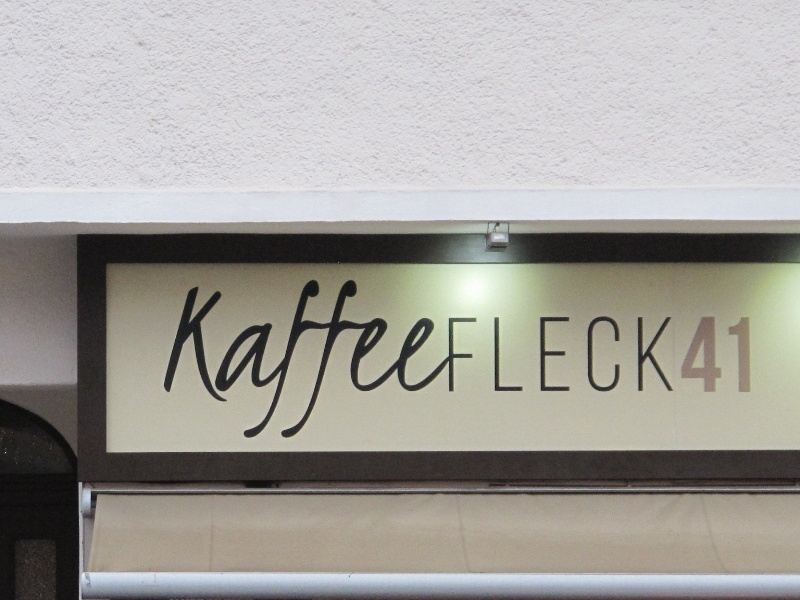text: (193, 273, 208, 442), (209, 273, 224, 442), (225, 273, 240, 442), (241, 273, 256, 442), (257, 273, 272, 442), (273, 273, 288, 442), (289, 273, 304, 442), (305, 273, 320, 442), (321, 273, 336, 442), (337, 273, 352, 442), (353, 273, 368, 442), (369, 273, 384, 442), (385, 273, 400, 442), (401, 273, 416, 442), (417, 273, 432, 442), (433, 273, 448, 442), (737, 317, 753, 396), (465, 317, 480, 396), (481, 317, 496, 396), (497, 317, 512, 396), (513, 317, 528, 396), (529, 317, 544, 396), (545, 317, 560, 396), (561, 317, 576, 396), (577, 317, 592, 396), (593, 317, 608, 396), (609, 317, 624, 396), (625, 317, 640, 396), (641, 317, 656, 396), (657, 317, 672, 396), (673, 317, 688, 396), (689, 317, 704, 396), (705, 317, 720, 396), (721, 317, 736, 396), (450, 317, 464, 396), (449, 273, 451, 442)
